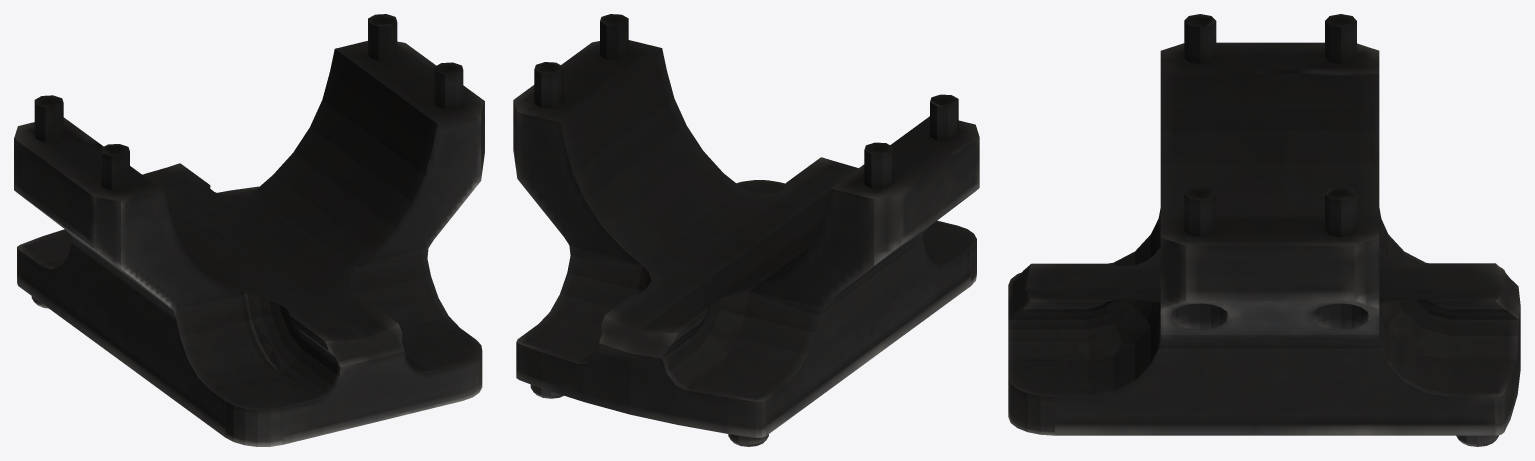
3 views of the same model, side by side, from view 1: azimuth 30°, elevation 25°; view 2: azimuth 150°, elevation 25°; view 3: azimuth 270°, elevation 25° (orthographic). The views are drawn at different scales.
Visible parts, largest first — view 1: TW_618b9682a3884f56c957ca78_PZ_Import; view 2: TW_618b9682a3884f56c957ca78_PZ_Import; view 3: TW_618b9682a3884f56c957ca78_PZ_Import.
Part boxes in pixels (x1,y1,x2,y2): TW_618b9682a3884f56c957ca78_PZ_Import: (14, 14, 484, 446); TW_618b9682a3884f56c957ca78_PZ_Import: (513, 14, 979, 446); TW_618b9682a3884f56c957ca78_PZ_Import: (1008, 14, 1520, 446).
Bounding box in the file's own units: 0.0252 × 0.0269 × 0.0163.
Materials: 1 (1 with a texture image).
